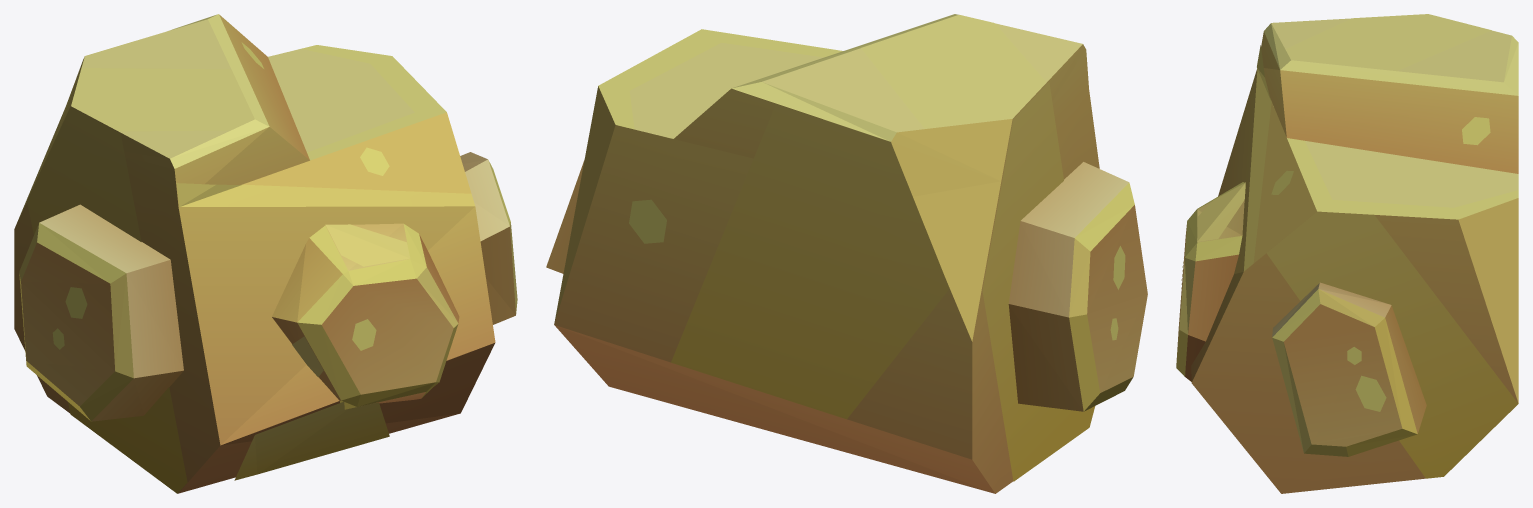
Rendered from GoldNugget_0.glb.
3 views of the same model, side by side, from view 1: azimuth 30°, elevation 25°; view 2: azimuth 150°, elevation 25°; view 3: azimuth 270°, elevation 25° (orthographic). The views are drawn at different scales.
Visible parts, largest first — view 1: GoldNugget; view 2: GoldNugget; view 3: GoldNugget.
Boxes of the visible parts, bbox=[...] form: GoldNugget: bbox=[14, 14, 517, 493]; GoldNugget: bbox=[546, 14, 1147, 493]; GoldNugget: bbox=[1176, 14, 1518, 493].
Size of the model in its own units: 0.77 by 0.5547 by 0.4982.
